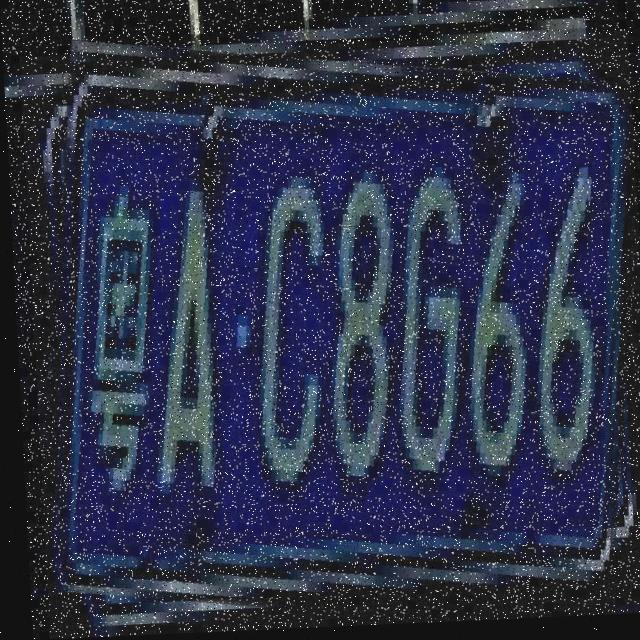LicensePlate: (19, 36, 640, 639)
